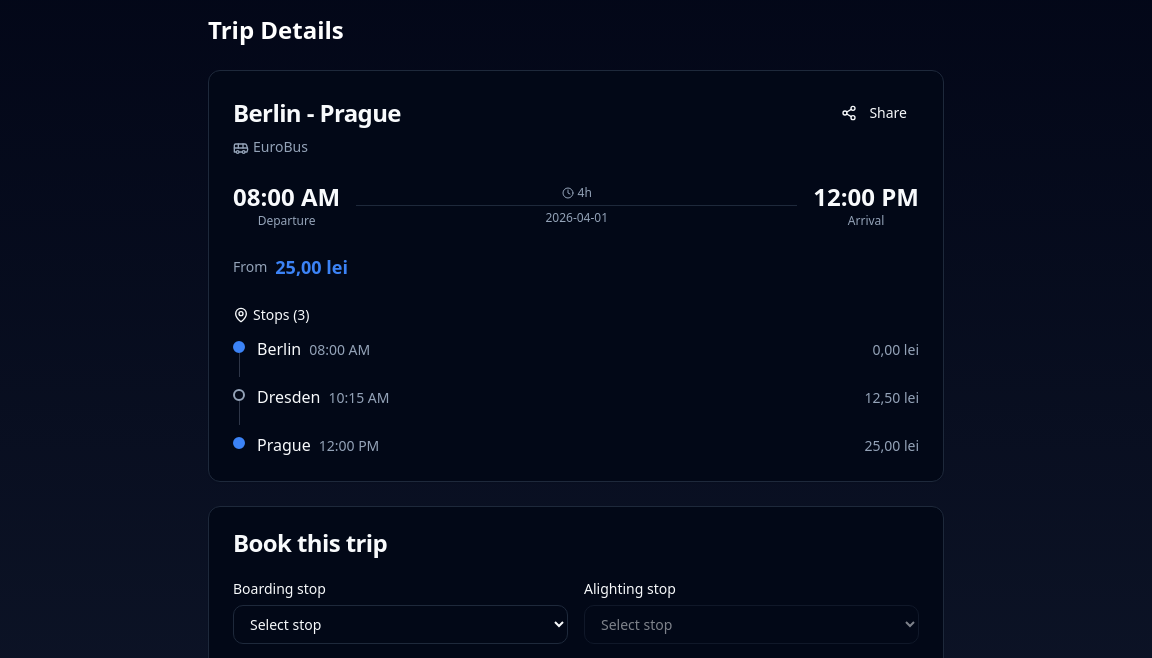
Test: TripDetailPage › booking flow › enables confirm only when all fields filled
The width and height of the screenshot is (1152, 658).
Select "Berlin" in the dropdown named "Select boarding stop" at (400, 624), box [233,605,568,644]
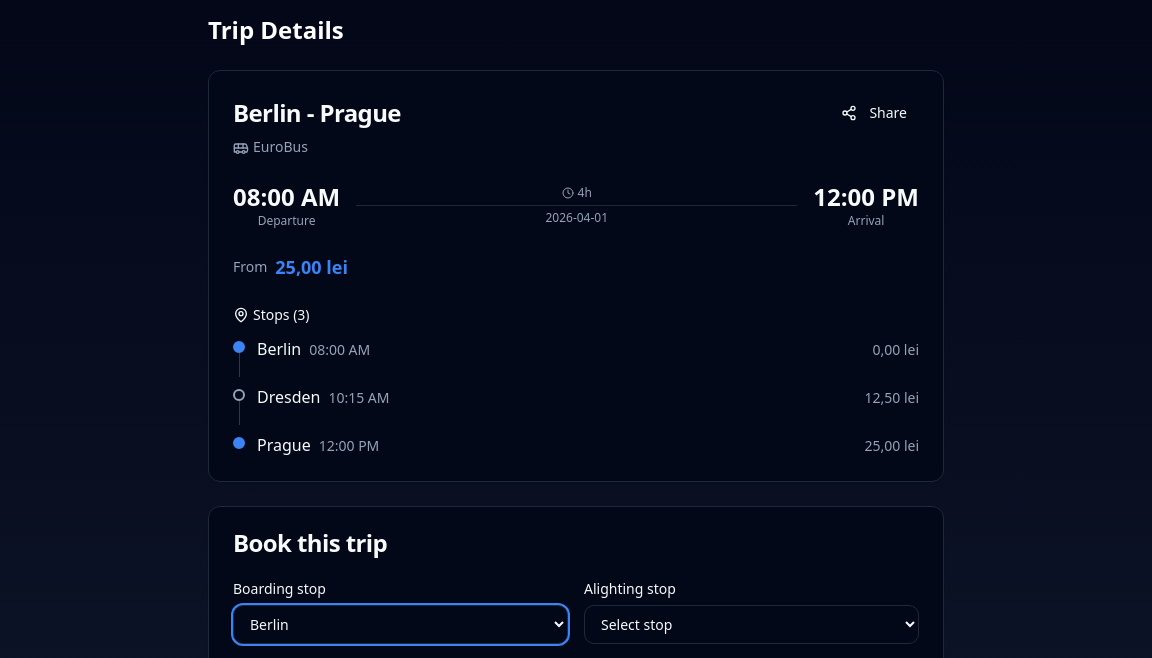
Select "Prague" in the dropdown named "Select alighting stop" at (752, 624), box [584,605,919,644]
(page scrolled)
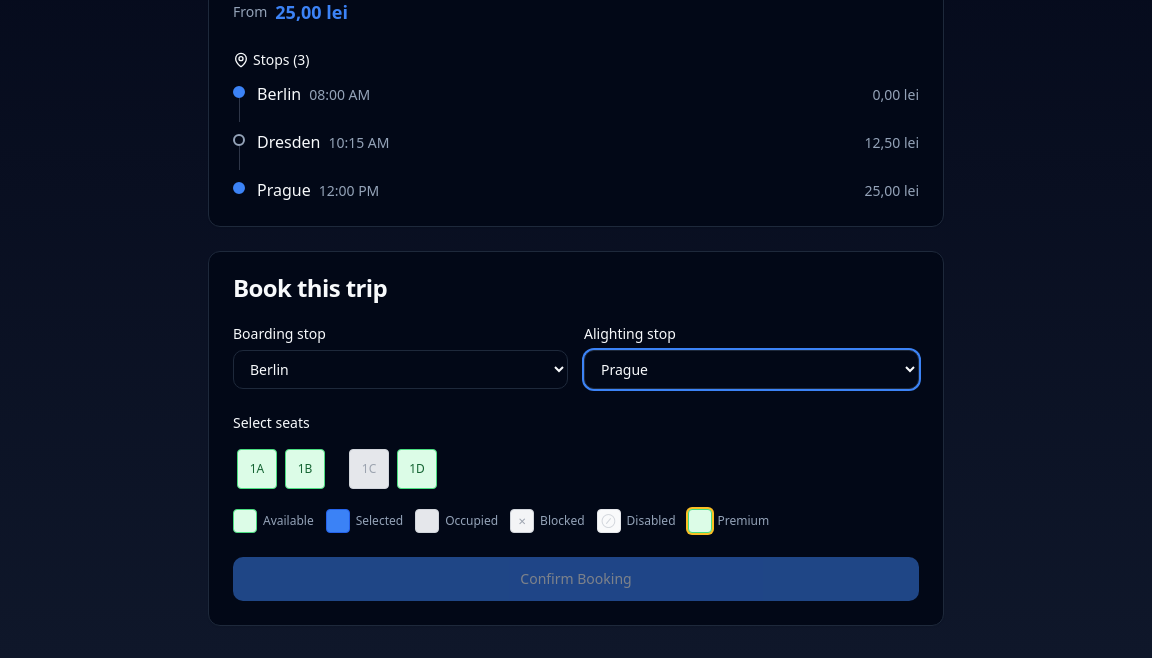
Check: the button labelled "Confirm Booking" is disabled, box [233,557,919,601]
Click the cell named "Seat 1A" at (257, 469), box [237,449,277,489]
(page scrolled)
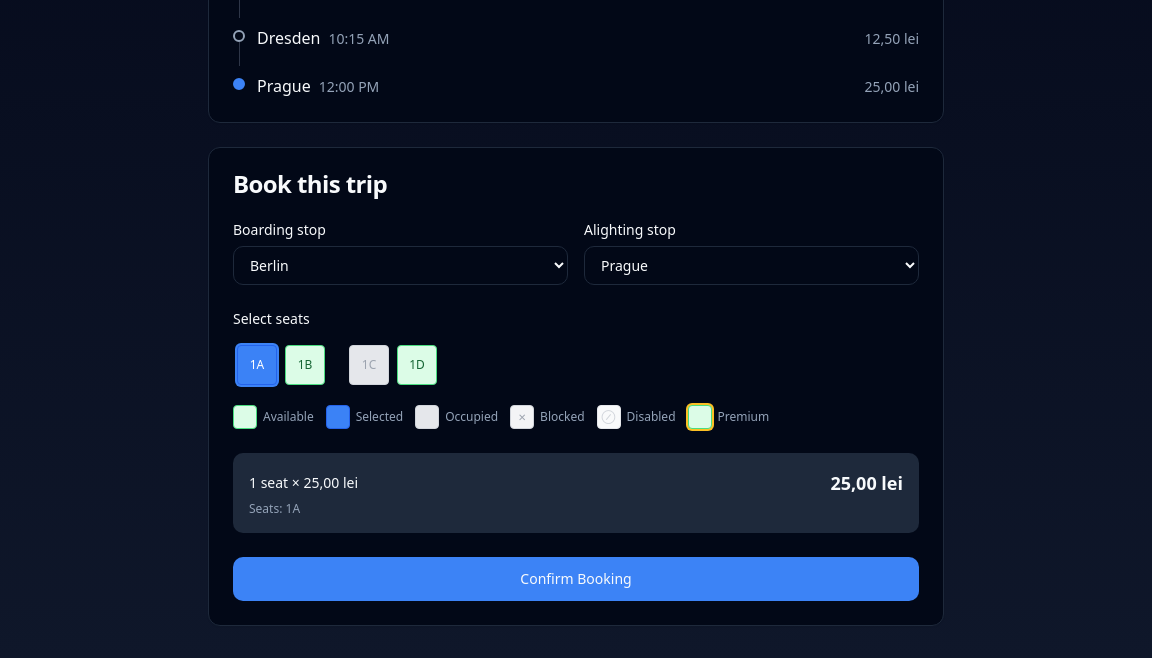
Check: the button labelled "Confirm Booking" is enabled, box [233,557,919,601]
